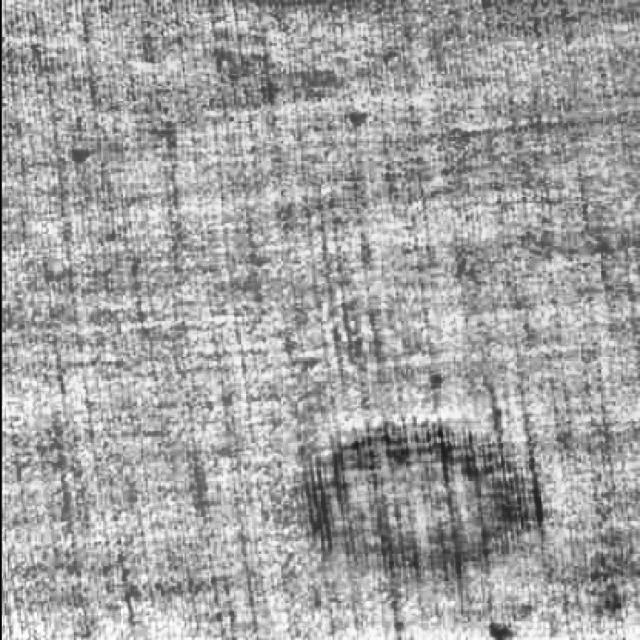oil_spot: (281, 405, 555, 584)
